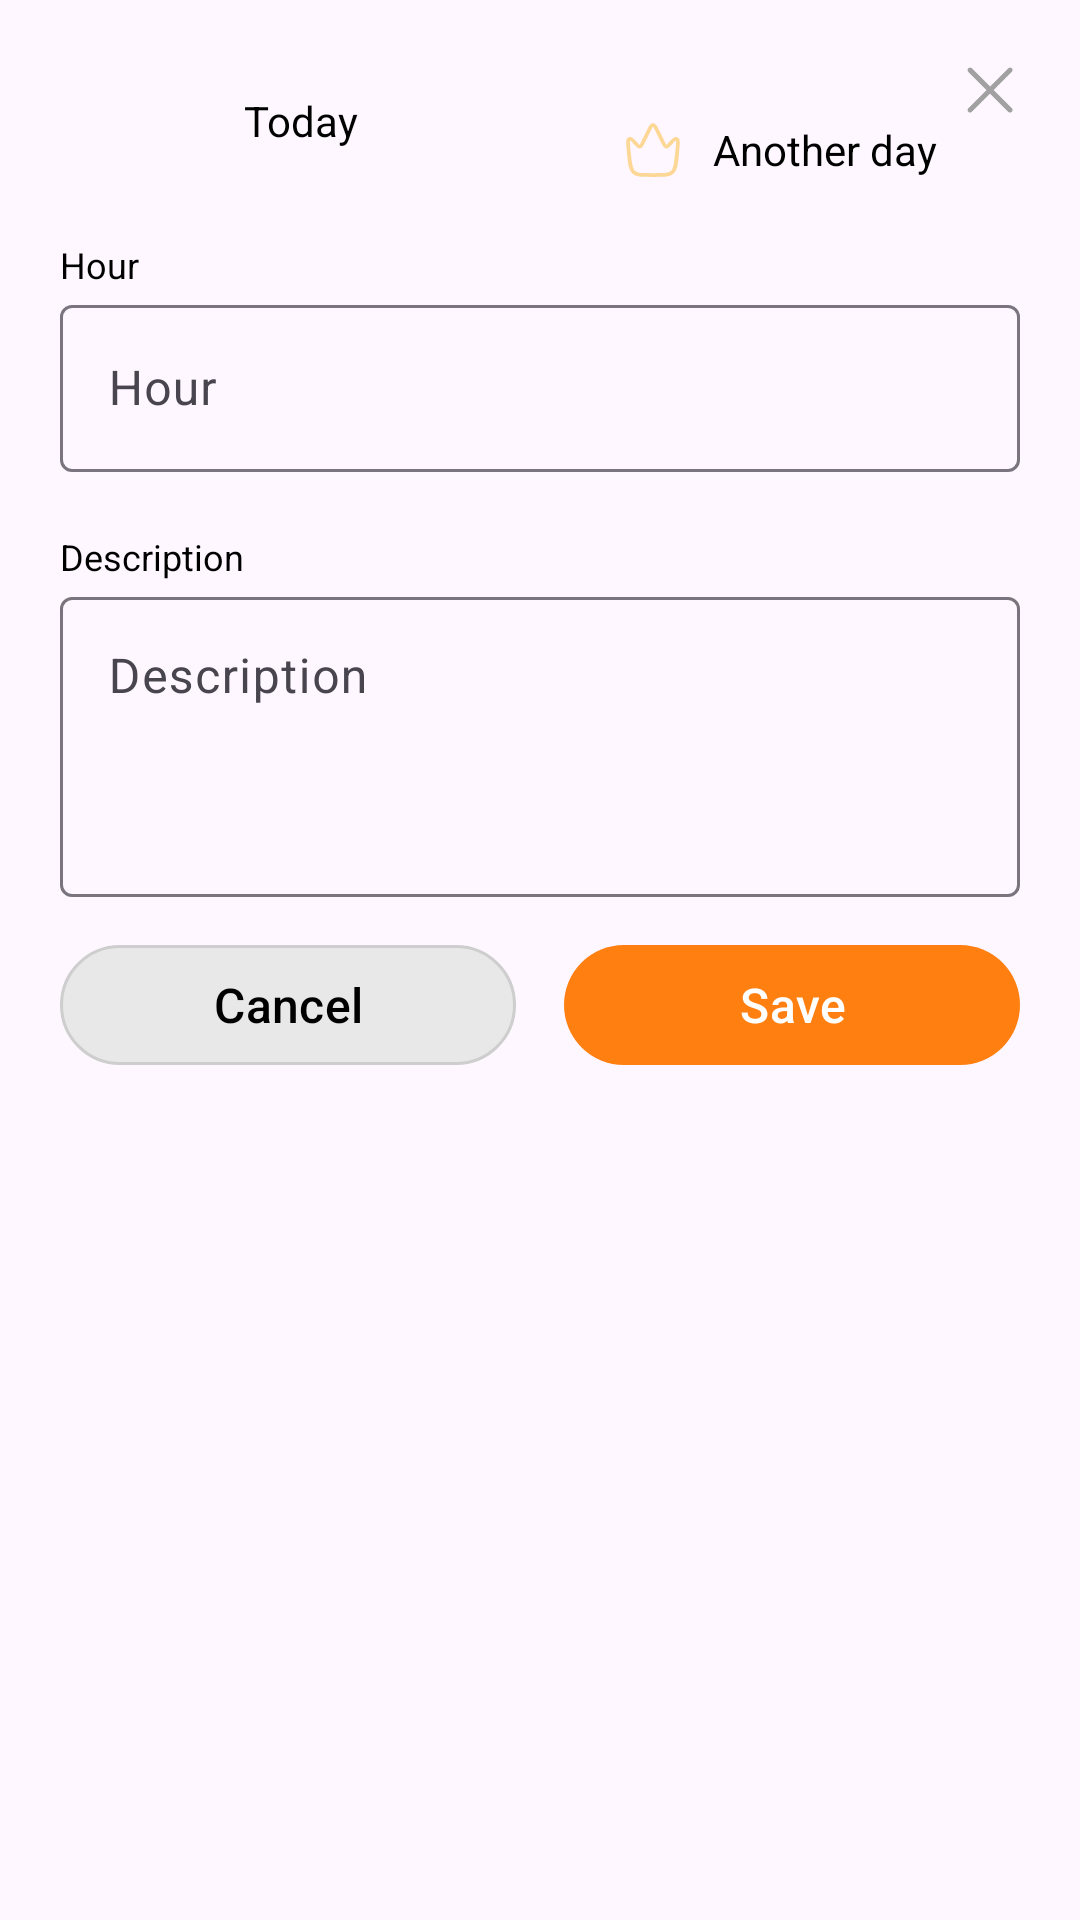

Icon click points for this 1080px x 1920px phone screenshot, format (x,y):
close: (990,90)
crown: (653,150)
